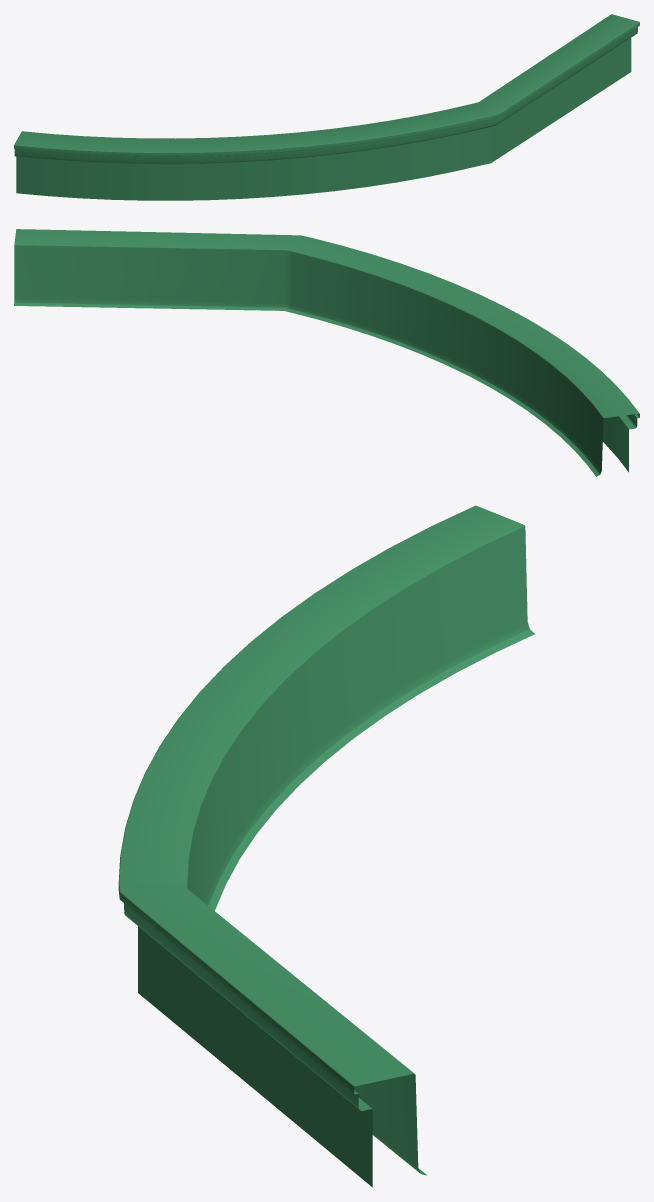
The model's file is GS_Ext_Roof_Trim_Curve_Half_02.fbx.
The picture shows the model from 3 angles, top to bottom: view 1: azimuth 30°, elevation 25°; view 2: azimuth 150°, elevation 25°; view 3: azimuth 270°, elevation 25°; orthographic projection. The views are drawn at different scales.
Parts seen in each view (by area): view 1: GS_Ext_Roof_Trim_Curve_Half_02; view 2: GS_Ext_Roof_Trim_Curve_Half_02; view 3: GS_Ext_Roof_Trim_Curve_Half_02.
Part boxes in pixels (x1,y1,x2,y2): GS_Ext_Roof_Trim_Curve_Half_02: (14,14,639,200); GS_Ext_Roof_Trim_Curve_Half_02: (14,229,639,476); GS_Ext_Roof_Trim_Curve_Half_02: (118,505,534,1187).
Size of the model in its own units: 666 by 56 by 202.
